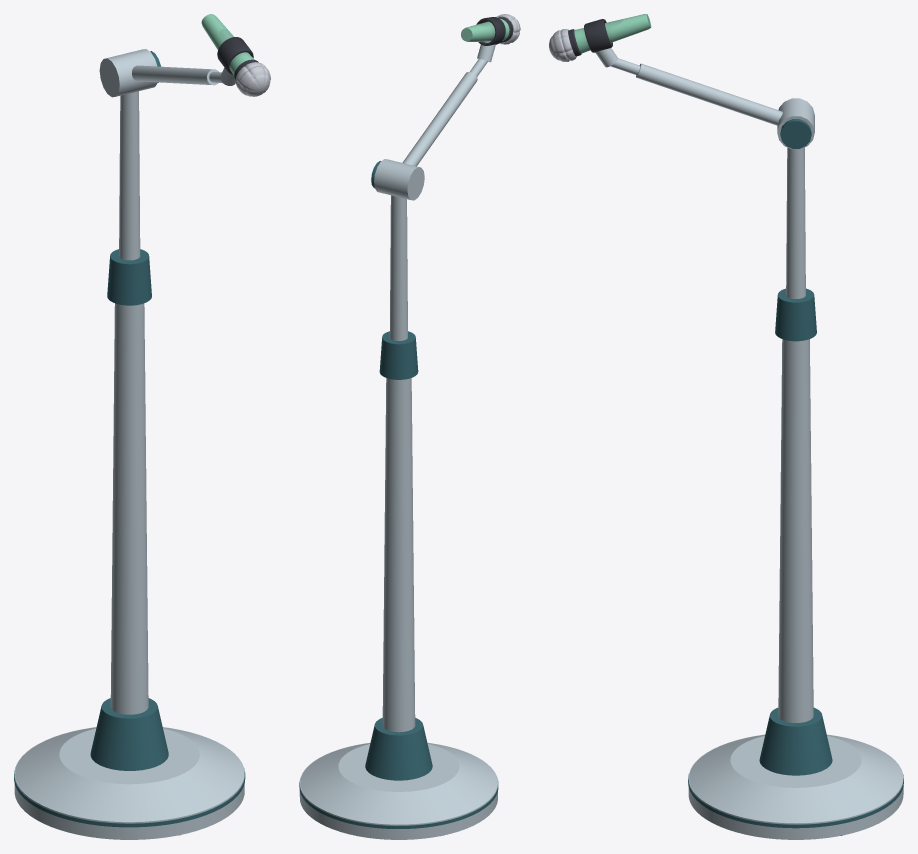
3 views of the same model, side by side, from view 1: azimuth 30°, elevation 25°; view 2: azimuth 150°, elevation 25°; view 3: azimuth 270°, elevation 25° (orthographic). The views are drawn at different scales.
Visible parts, largest first — view 1: weighted-disc, telescoping-mast, mast-socket, mast-inner-slider, height-lock, short-arm-hinge, singing-boom, disc-inlay, singing-mic-pickup, singing-mic-handle, singing-mic-clip; view 2: weighted-disc, telescoping-mast, mast-socket, mast-inner-slider, short-arm-hinge, singing-boom, height-lock, disc-inlay, singing-mic-handle; view 3: weighted-disc, telescoping-mast, mast-socket, mast-inner-slider, singing-boom, height-lock, singing-mic-handle, disc-inlay, short-arm-hinge, arm-thumbwheel, singing-mic-clip.
Boxes of the visible parts, x1=… form: weighted-disc: x1=14, y1=727, x2=244, y2=839; telescoping-mast: x1=110, y1=303, x2=148, y2=714; mast-socket: x1=90, y1=698, x2=168, y2=770; mast-inner-slider: x1=119, y1=91, x2=140, y2=260; height-lock: x1=107, y1=249, x2=151, y2=305; short-arm-hinge: x1=99, y1=49, x2=157, y2=97; singing-boom: x1=132, y1=65, x2=218, y2=85; disc-inlay: x1=14, y1=767, x2=245, y2=827; singing-mic-pickup: x1=235, y1=62, x2=270, y2=96; singing-mic-handle: x1=201, y1=14, x2=254, y2=75; singing-mic-clip: x1=217, y1=37, x2=253, y2=74; weighted-disc: x1=299, y1=742, x2=497, y2=839; telescoping-mast: x1=382, y1=378, x2=415, y2=732; mast-socket: x1=365, y1=718, x2=432, y2=780; mast-inner-slider: x1=389, y1=195, x2=407, y2=340; short-arm-hinge: x1=374, y1=159, x2=424, y2=200; singing-boom: x1=402, y1=72, x2=477, y2=166; height-lock: x1=379, y1=331, x2=418, y2=379; disc-inlay: x1=299, y1=779, x2=498, y2=828; singing-mic-handle: x1=461, y1=19, x2=509, y2=41; weighted-disc: x1=688, y1=734, x2=903, y2=839; telescoping-mast: x1=778, y1=339, x2=813, y2=722; mast-socket: x1=759, y1=707, x2=832, y2=775; mast-inner-slider: x1=786, y1=147, x2=805, y2=298; singing-boom: x1=636, y1=63, x2=782, y2=125; height-lock: x1=775, y1=288, x2=816, y2=341; singing-mic-handle: x1=574, y1=14, x2=651, y2=53; disc-inlay: x1=688, y1=774, x2=903, y2=828; short-arm-hinge: x1=777, y1=98, x2=814, y2=149; arm-thumbwheel: x1=780, y1=119, x2=811, y2=148; singing-mic-clip: x1=584, y1=19, x2=612, y2=52.
Bounding box in the file's own units: 0.4016 × 1.61 × 0.6603.
Materials: 4 (1 with a texture image).
